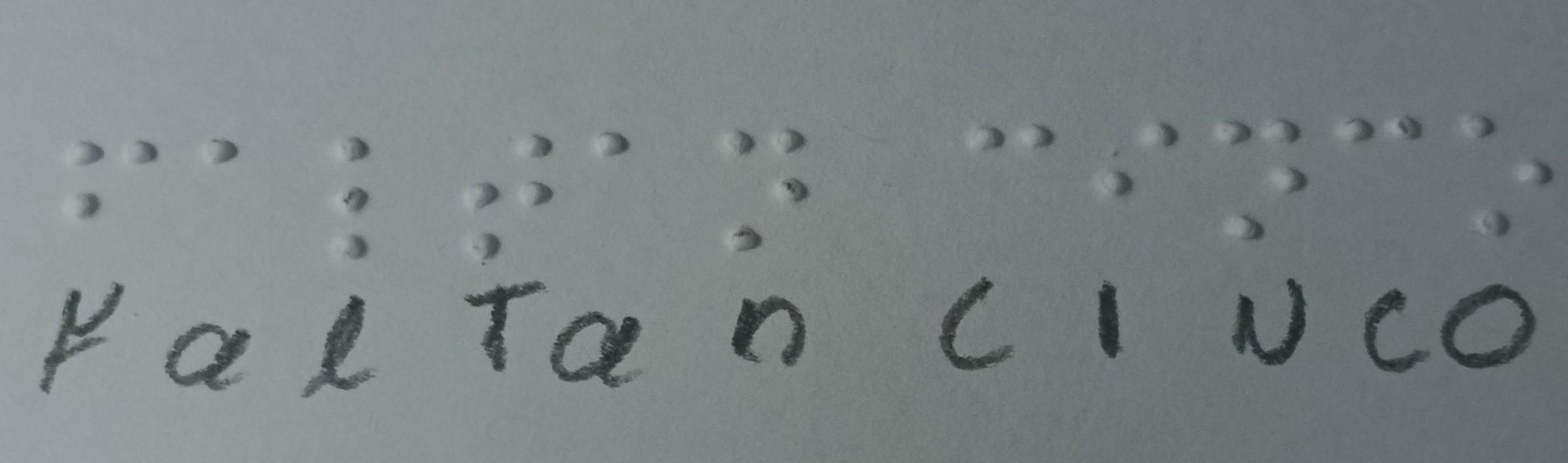a: (177, 132, 273, 185), (562, 122, 657, 165)
c: (950, 112, 1073, 193), (1317, 110, 1432, 175)
f: (58, 130, 168, 228)
i: (1082, 110, 1192, 205)
l: (305, 128, 398, 275)
n: (690, 112, 837, 275), (1205, 107, 1317, 250)
o: (1435, 110, 1568, 241)
t: (438, 123, 560, 270)
